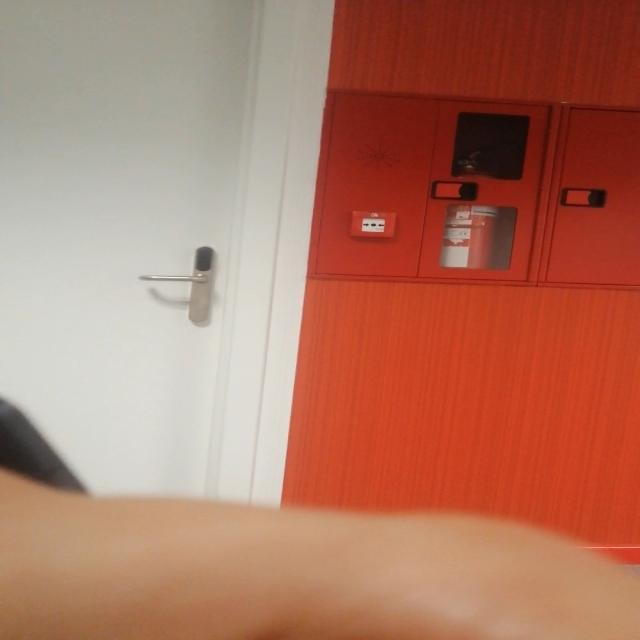door_handle: (136, 274, 216, 287)
